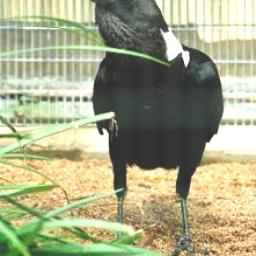Crow: (67, 0, 224, 256)
